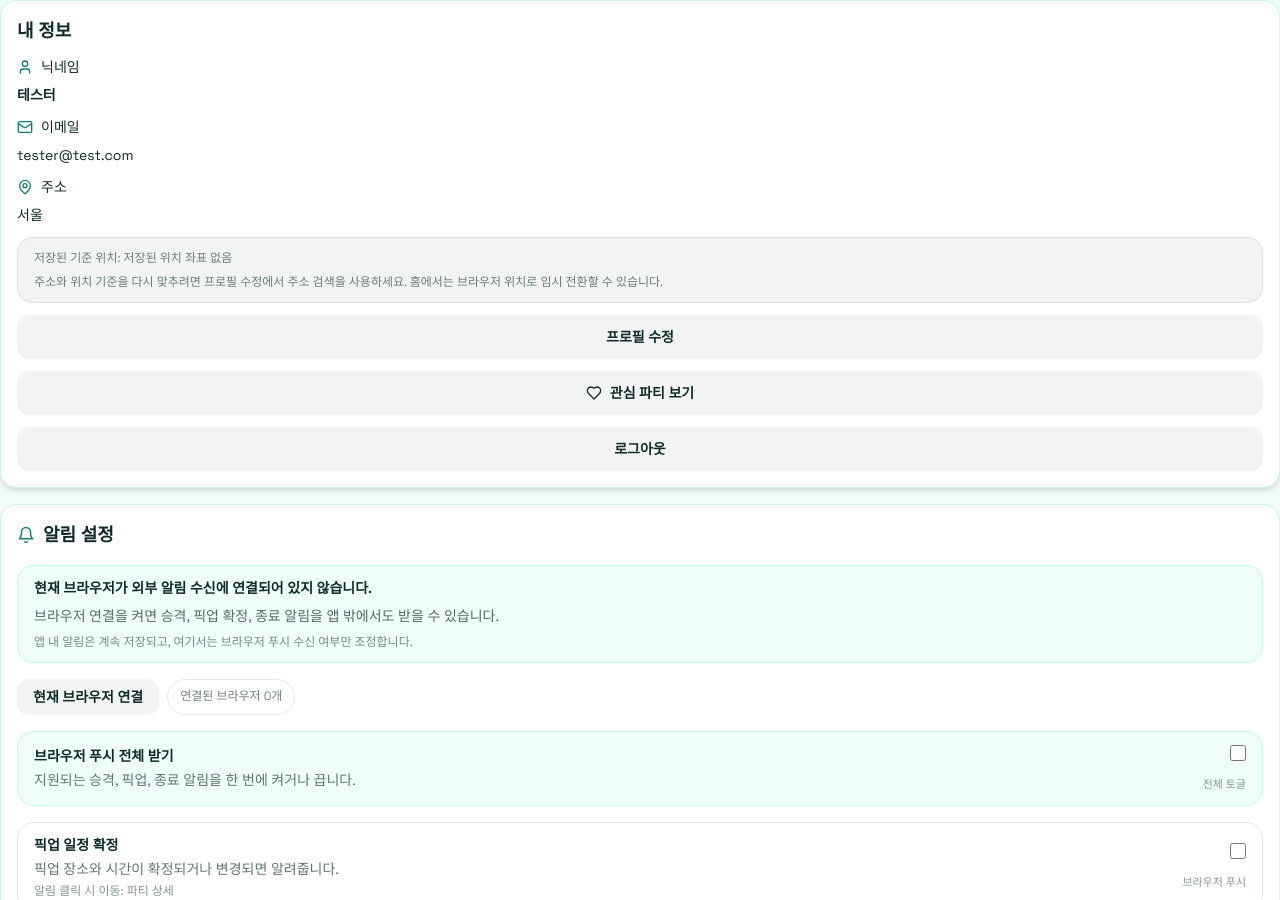
Scenario: Profile notification settings › 현재_브라우저_연결을_저장한다
Click the button "현재 브라우저 연결": (88, 697) [17, 679, 159, 715]
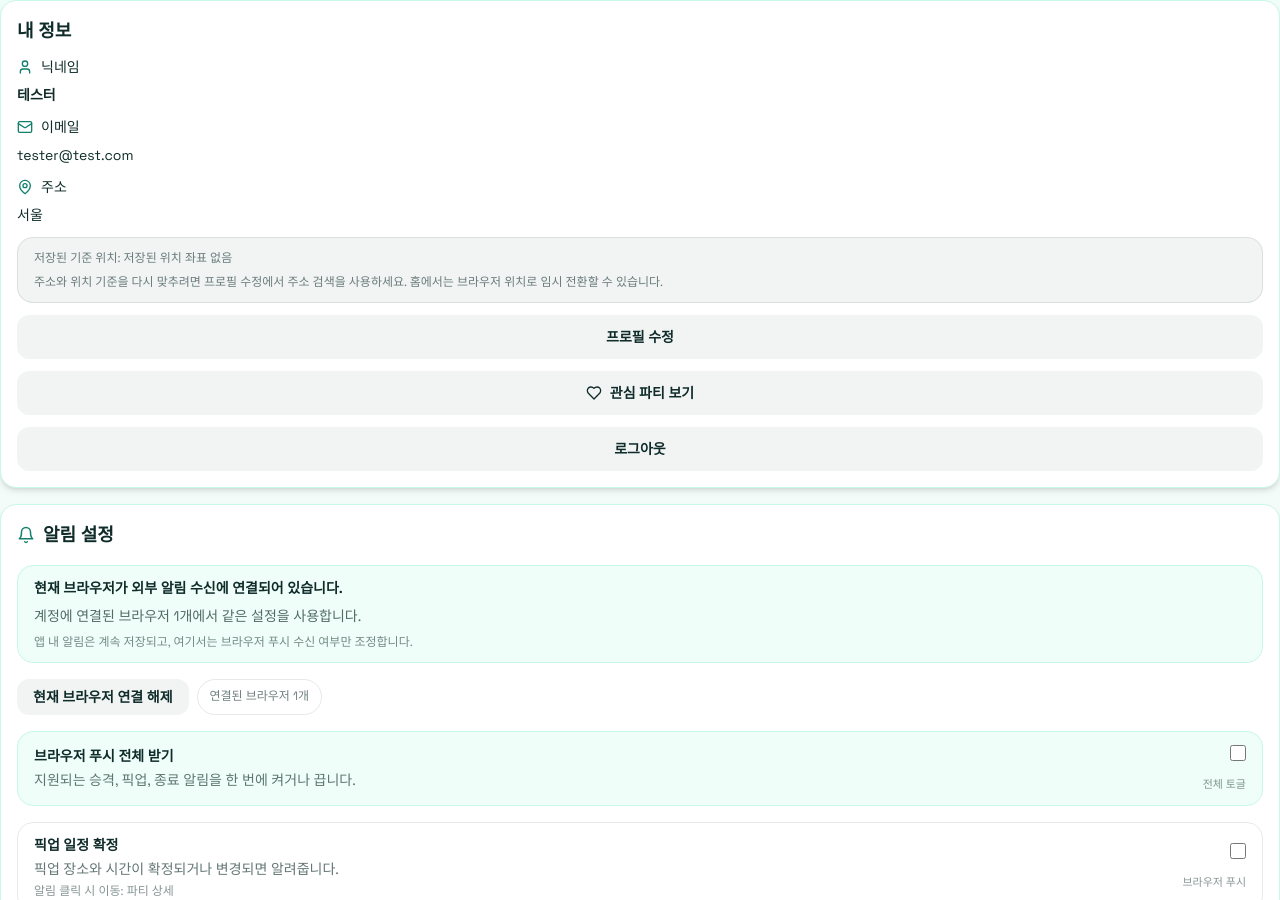
expect the button "현재 브라우저 연결 해제" is shown: met, box [17, 679, 188, 715]
